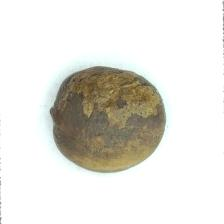NG: (55, 66, 163, 132)
